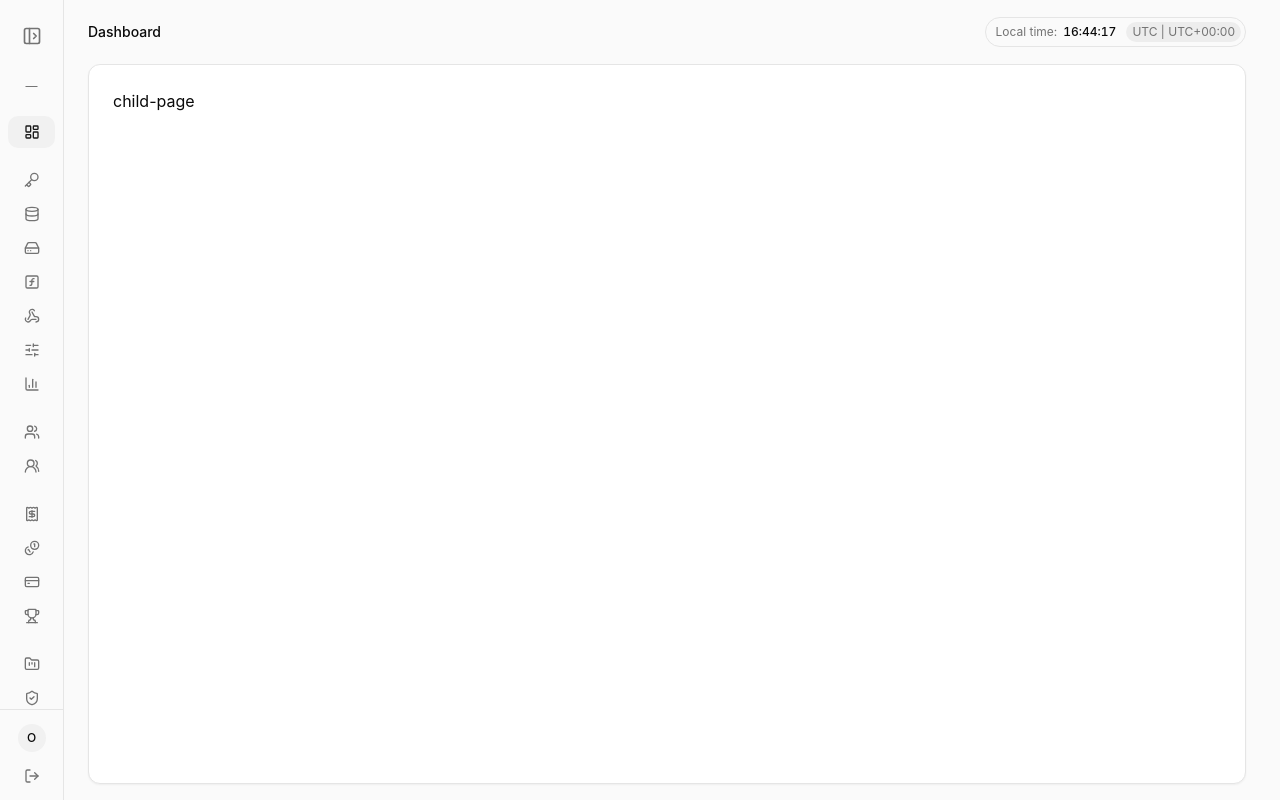
Test case: Layout 侧栏收起 › 持久化收起态在刷新后生效，点「展开菜单」恢复
Expected: the text "Storage" is not shown
Click the button titled "Expand menu" at (32, 36), box [12,16,51,56]
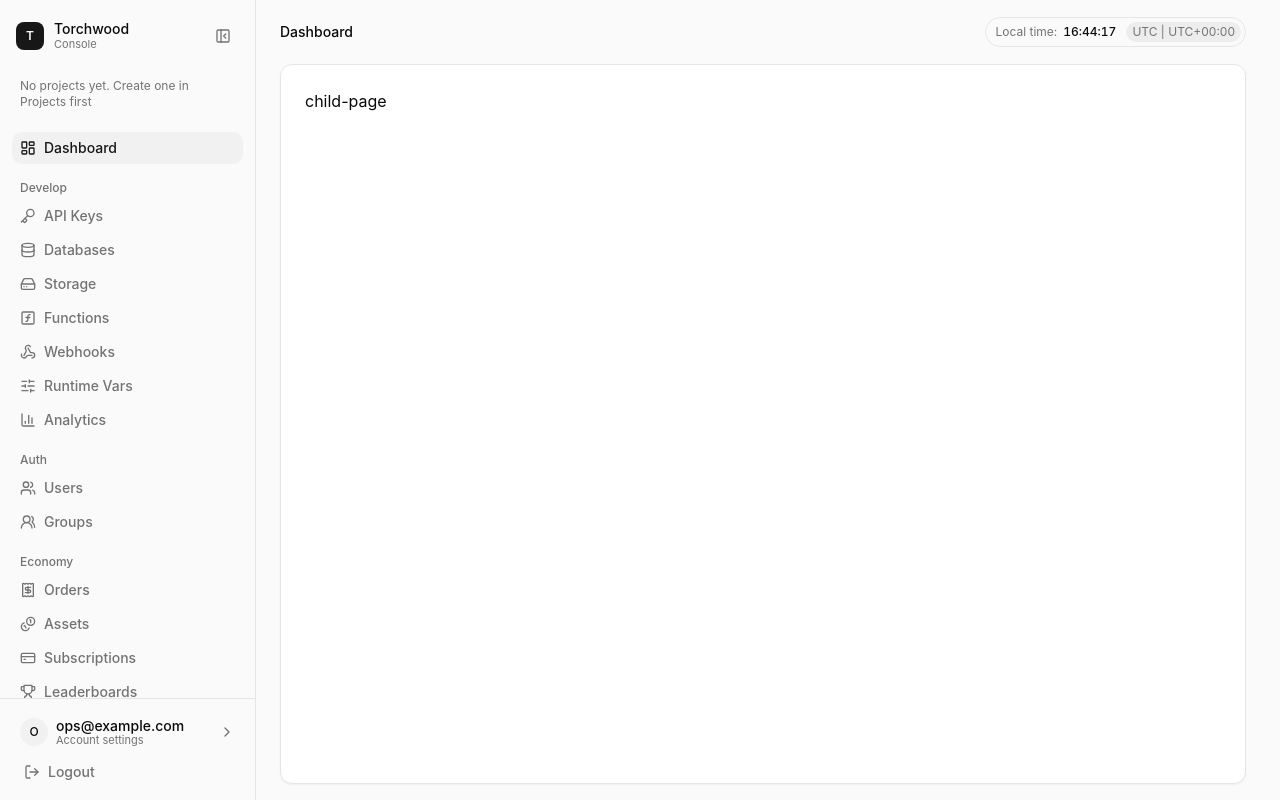
Expected: the text "Storage" is shown, [44,274,96,294]
